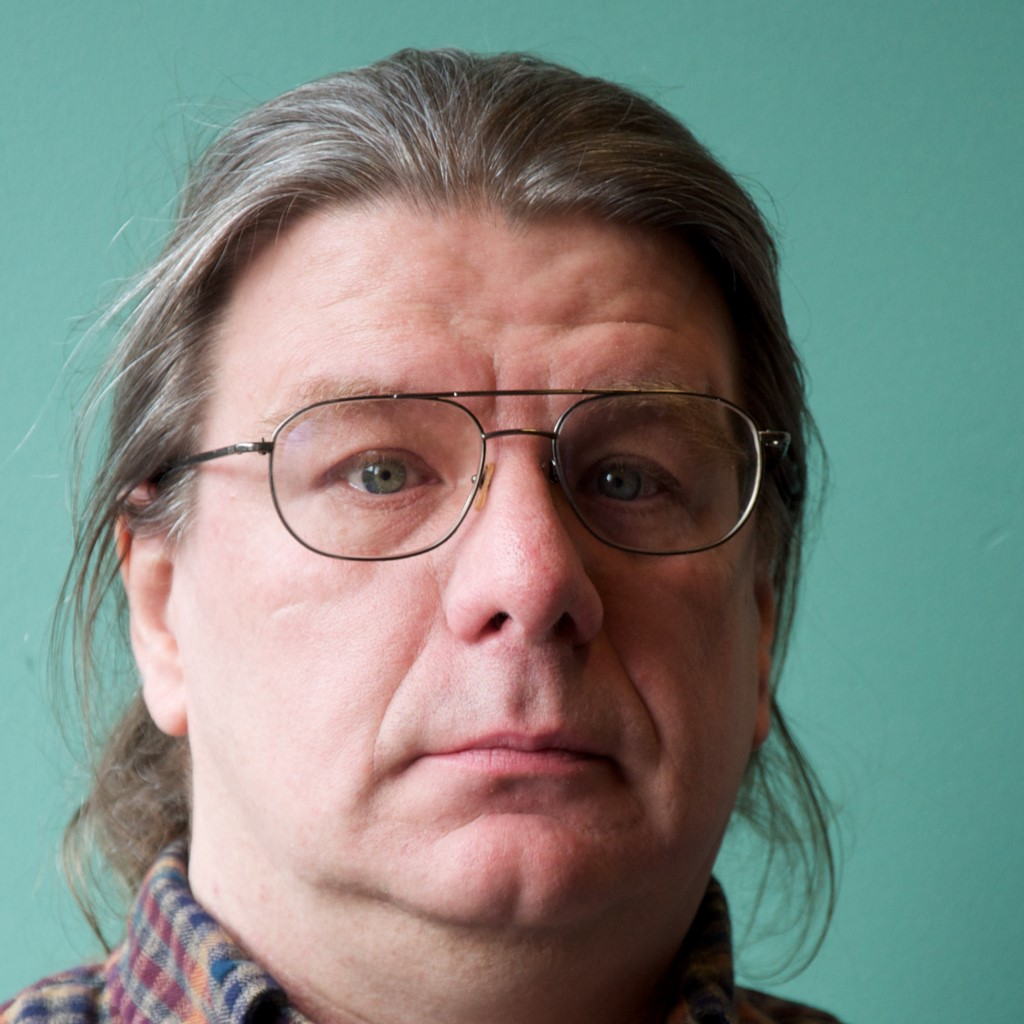sin_mascara: (155, 173, 785, 945)
